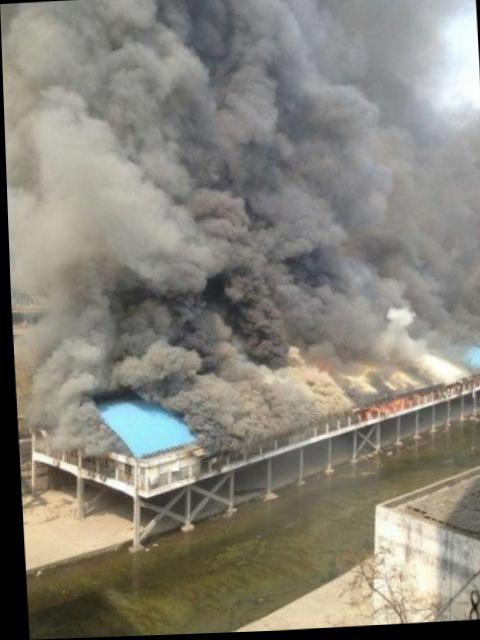smoke: (78, 0, 210, 375), (0, 0, 104, 441), (286, 0, 416, 341), (192, 0, 305, 353), (406, 77, 477, 342), (180, 365, 303, 432)
